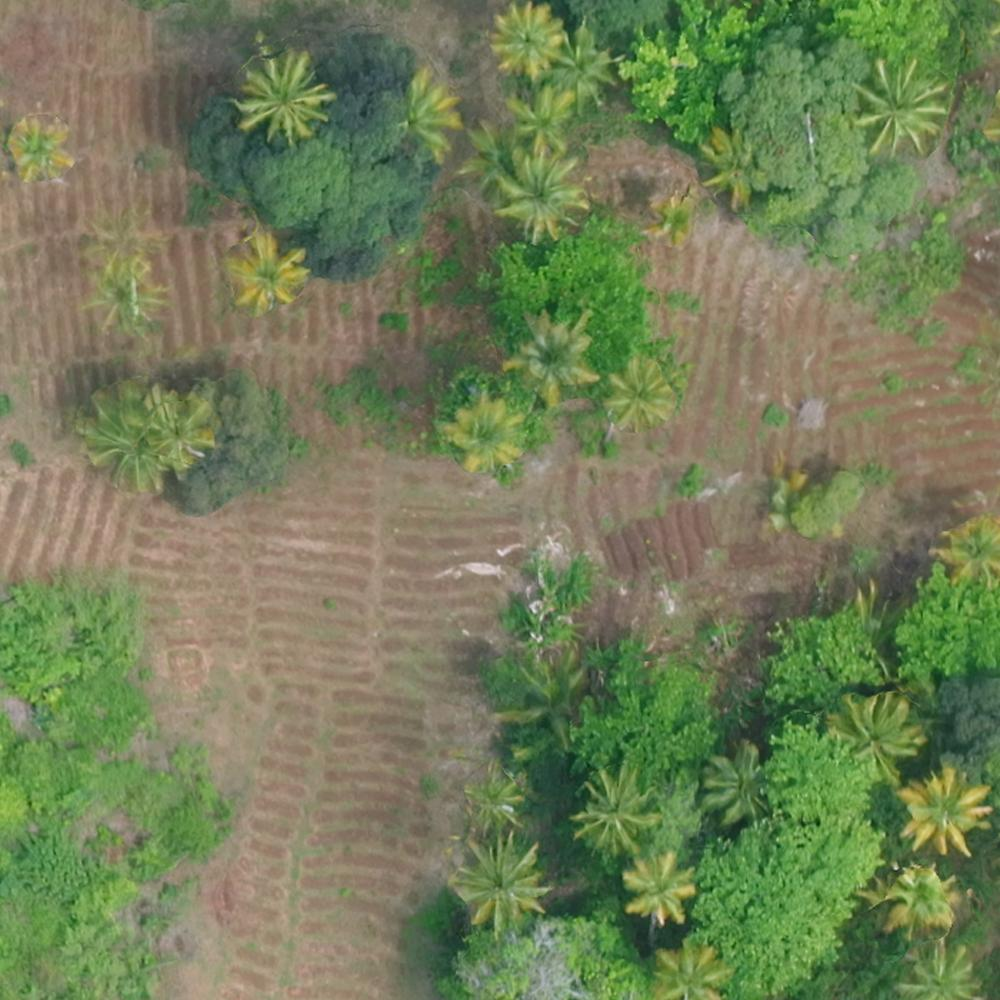Palm: (851, 61, 945, 150), (82, 393, 175, 482), (233, 54, 326, 139), (569, 768, 658, 856), (835, 688, 921, 779), (454, 838, 540, 927), (902, 773, 985, 858), (446, 394, 525, 482), (513, 317, 598, 396), (396, 68, 471, 155), (227, 230, 311, 306), (499, 152, 579, 231), (143, 385, 220, 466), (695, 124, 768, 205), (618, 852, 699, 925), (703, 742, 770, 826), (487, 1, 562, 76), (880, 866, 957, 939), (604, 357, 678, 430), (649, 939, 734, 1000), (84, 261, 160, 329), (501, 86, 569, 152), (5, 116, 72, 182), (900, 944, 977, 1000)
